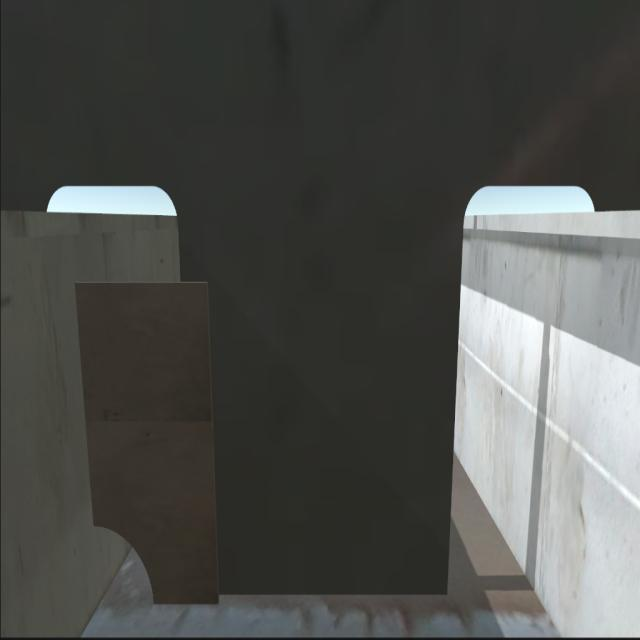fillet_hole: (95, 520, 153, 604)
fillet_yong_jeop_jang: (149, 587, 459, 607)
longi_yong_jeop_jang: (66, 278, 102, 534)
plate_CP01: (78, 284, 210, 594)
